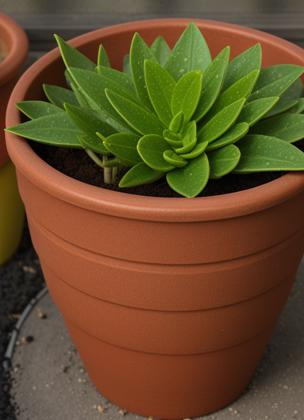pottedplant: (3, 12, 304, 420)
